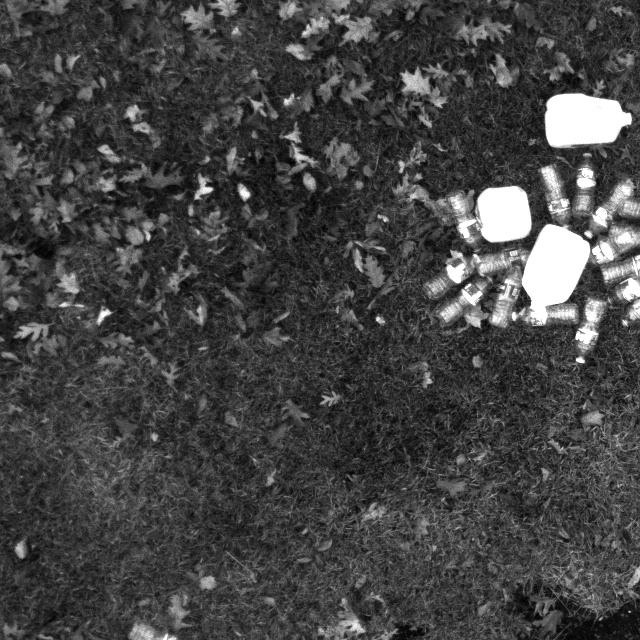bottle: (463, 234, 535, 300), (573, 290, 615, 372), (587, 176, 634, 234), (561, 145, 592, 228), (539, 152, 570, 233), (442, 279, 497, 322), (511, 297, 582, 328), (516, 300, 587, 331), (446, 186, 478, 252)
can: (515, 214, 591, 319), (534, 84, 637, 159), (475, 178, 542, 243)
